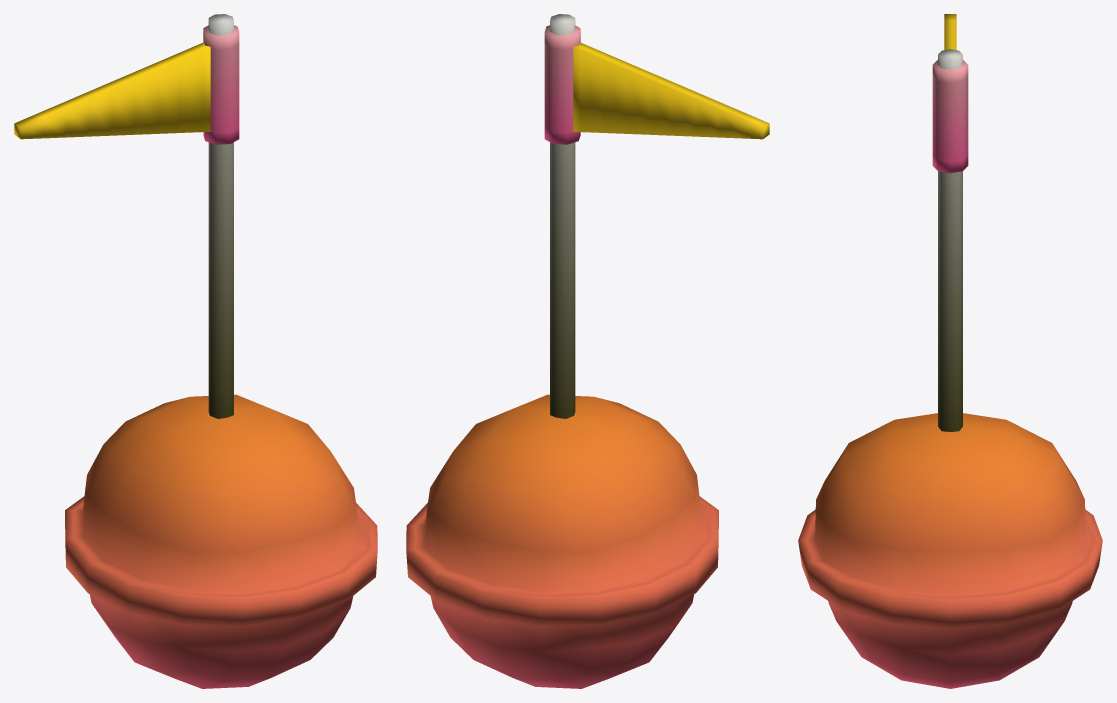
The model's file is boye.fbx.
The picture shows the model from 3 angles, left to right: view 1: azimuth 30°, elevation 25°; view 2: azimuth 150°, elevation 25°; view 3: azimuth 270°, elevation 25°; orthographic projection. The views are drawn at different scales.
Visible parts, largest first — view 1: Boye; view 2: Boye; view 3: Boye.
Part boxes in pixels (left/top/right/bottom): Boye: left=14, top=14, right=377, bottom=688; Boye: left=406, top=14, right=769, bottom=688; Boye: left=798, top=14, right=1102, bottom=688.
Size of the model in its own units: 237 by 441 by 196.
